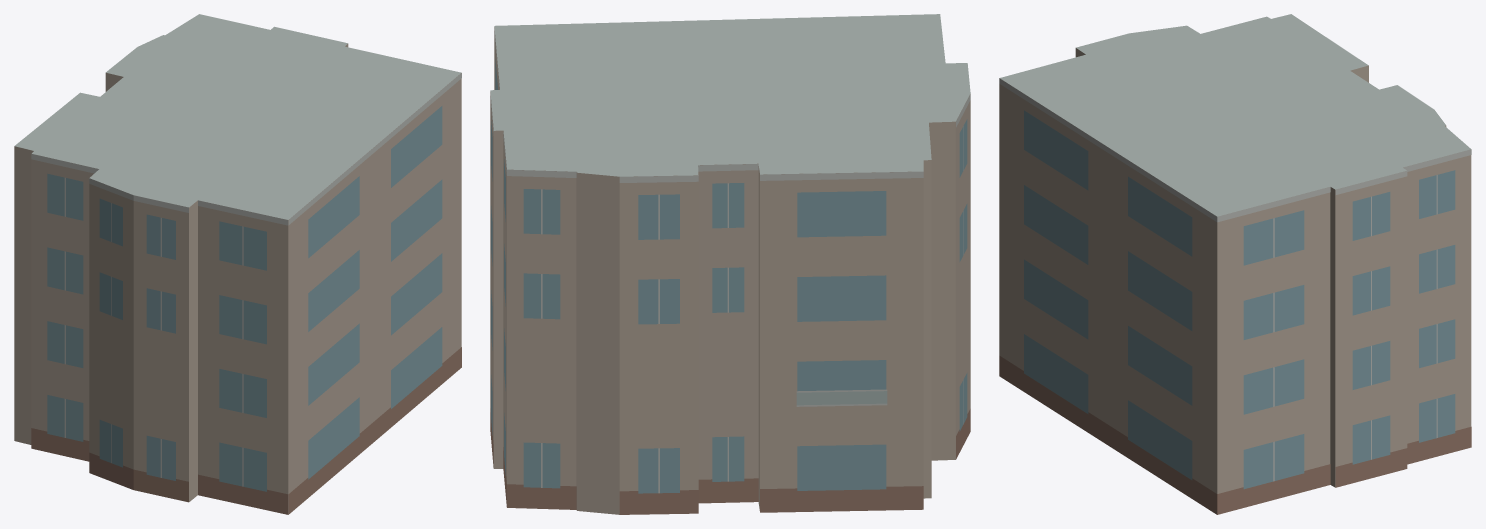
The model's file is survey-upis-32656487.glb.
3 renders of one model, left to right at view 1: azimuth 30°, elevation 25°; view 2: azimuth 150°, elevation 25°; view 3: azimuth 270°, elevation 25°, orthographic. The views are drawn at different scales.
Parts seen in each view (by area): view 1: survey-upis-32656487.tmp; view 2: survey-upis-32656487.tmp; view 3: survey-upis-32656487.tmp.
Boxes of the visible parts, x1=… form: survey-upis-32656487.tmp: x1=14, y1=14, x2=461, y2=514; survey-upis-32656487.tmp: x1=490, y1=14, x2=970, y2=514; survey-upis-32656487.tmp: x1=999, y1=14, x2=1471, y2=514.
Size of the model in its own units: 18.74 by 12.85 by 18.45.
